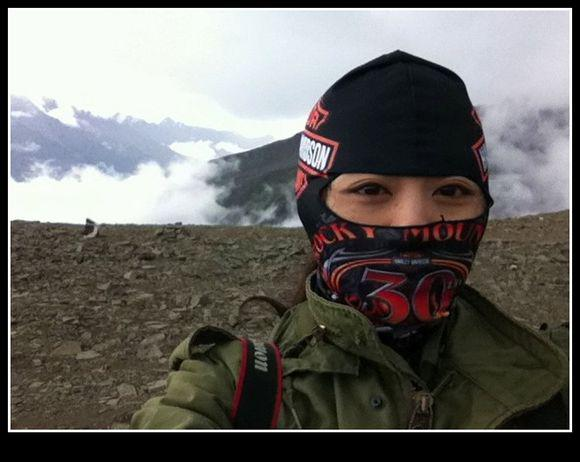WRONG: (310, 156, 492, 318)
